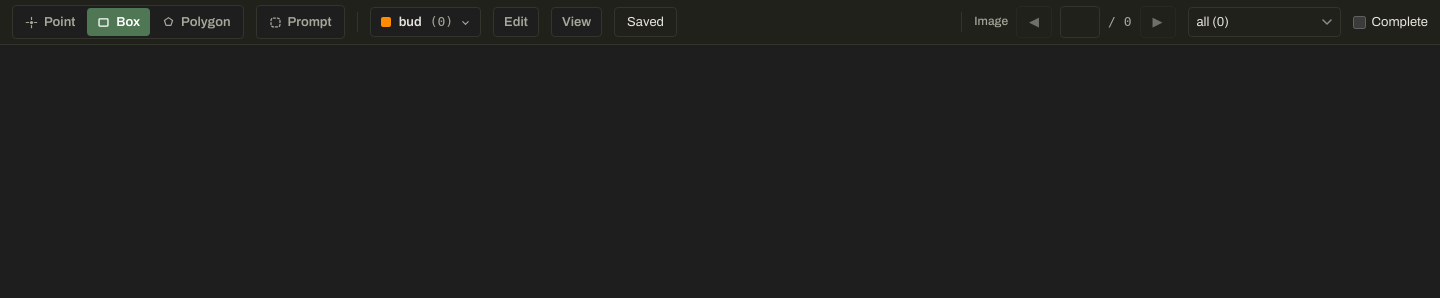
AnnotateToolbar subject authoring › adopts the committed registry and keeps the active subject when the save's audit line is lost
The width and height of the screenshot is (1440, 298).
What coordinates should you click on to do the following:
click the button "bud (0)"
I would click on:
 (425, 22)
Its box is x1=370 y1=7 x2=481 y2=37.
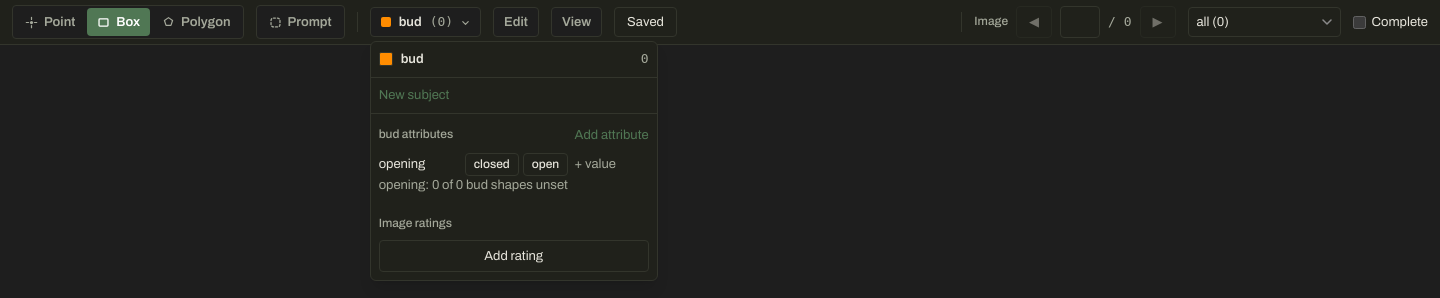
What coordinates should you click on to do the following:
click the button "New subject"
I would click on:
 (414, 95)
Its box is x1=371 y1=82 x2=657 y2=109.
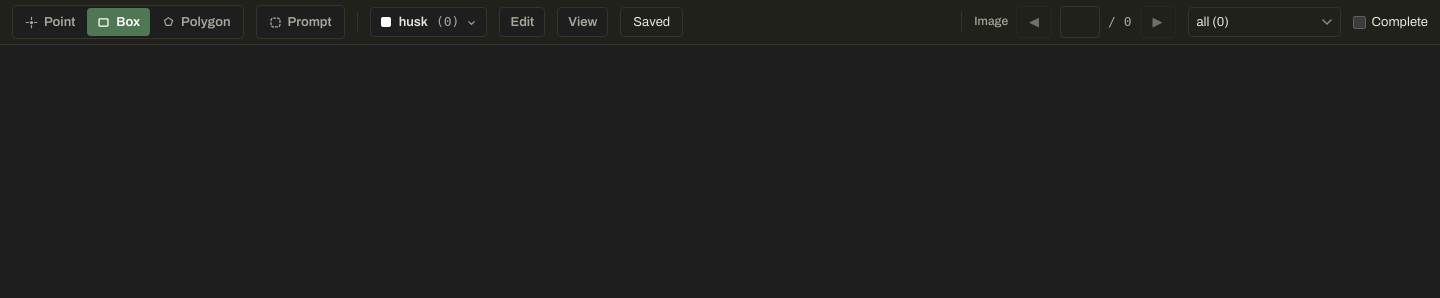
Result: the text "husk" is shown at x1=399 y1=13 x2=428 y2=31
